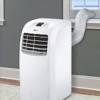ac: (16, 16, 75, 99)
